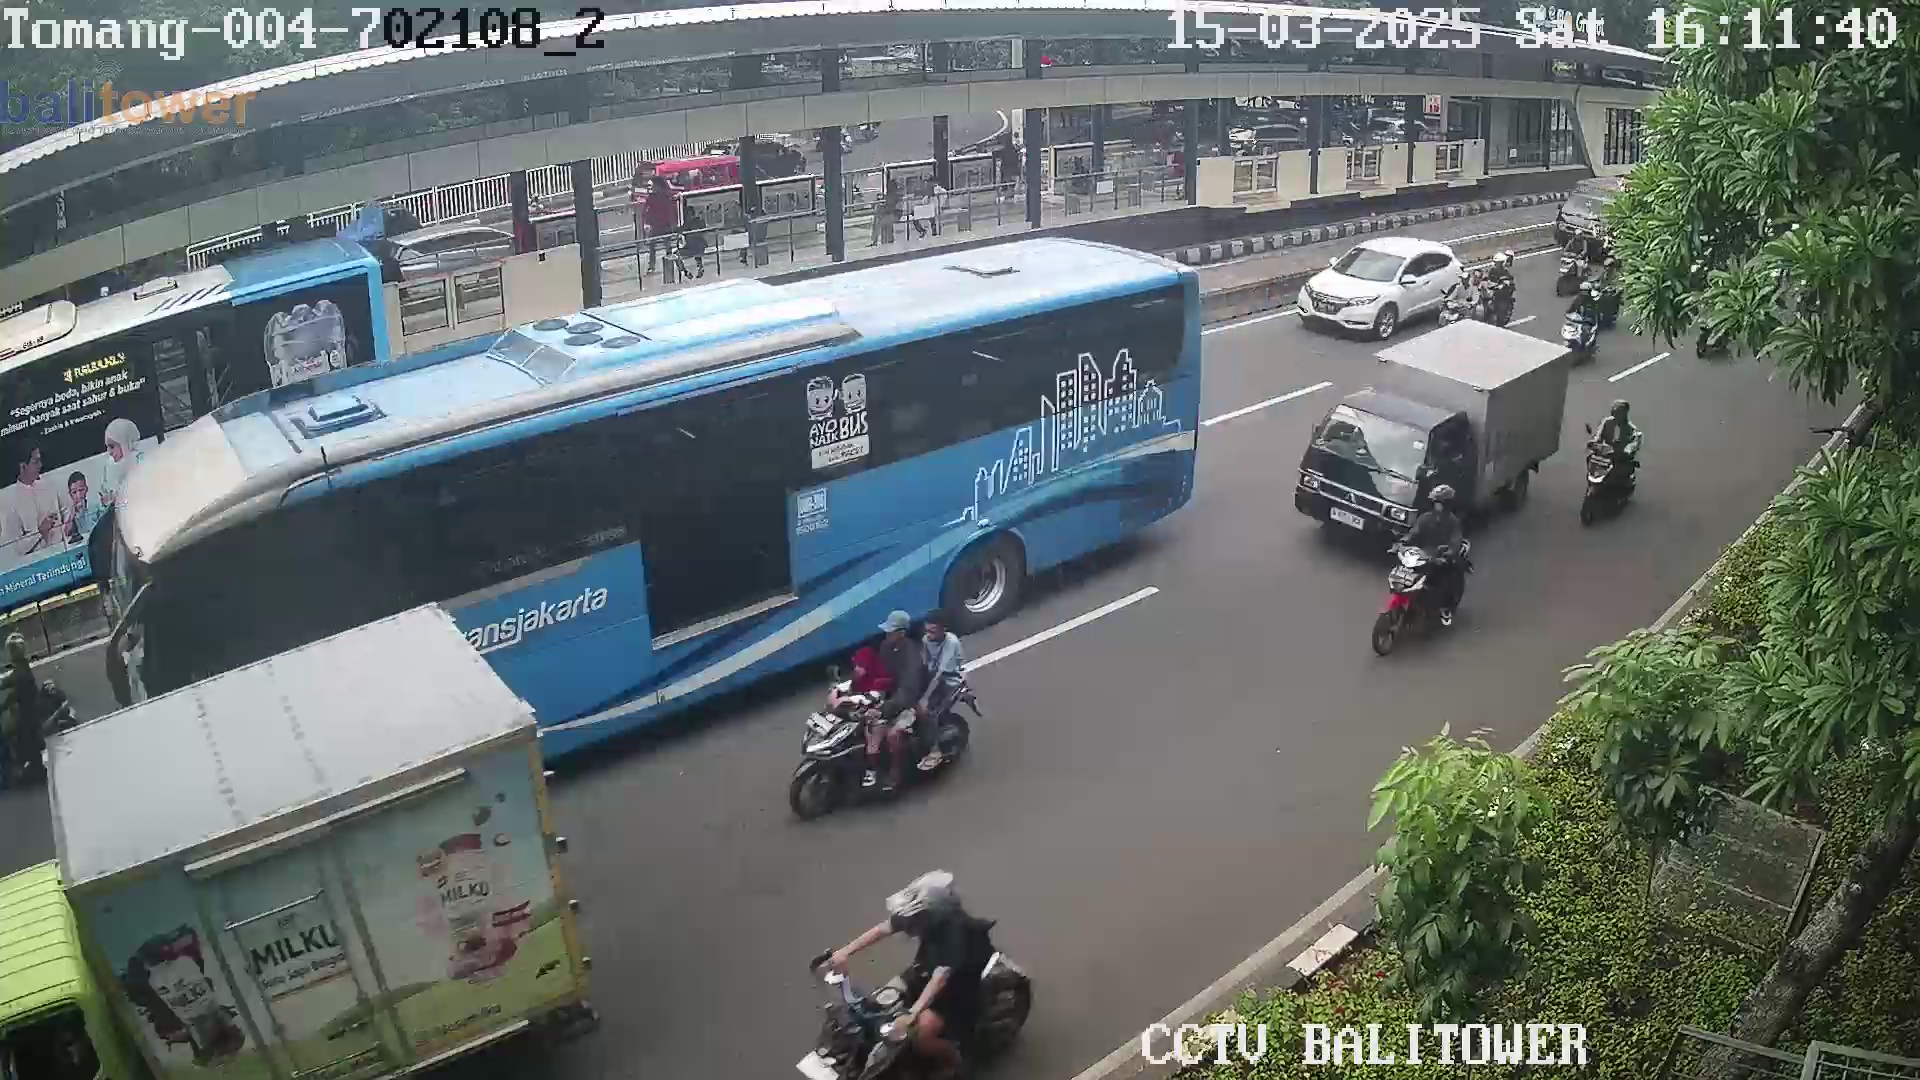full-face helmet: (880, 867, 970, 953)
half-face helmet: (1429, 480, 1457, 520), (1610, 384, 1631, 429)
no helmet: (872, 604, 915, 671), (843, 641, 880, 690), (919, 606, 949, 653)
